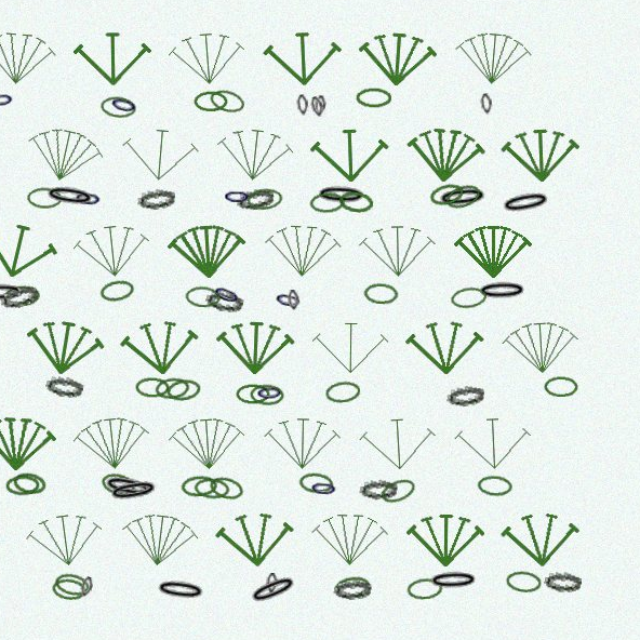chain: (255, 549, 305, 584), (489, 195, 538, 222), (121, 458, 170, 485), (126, 462, 175, 488), (67, 190, 116, 215), (170, 555, 218, 579), (25, 281, 64, 310), (377, 460, 414, 490), (431, 192, 479, 215), (437, 188, 474, 217), (244, 192, 282, 218), (319, 191, 366, 212), (219, 101, 255, 128), (219, 459, 254, 486), (4, 282, 51, 302), (468, 280, 515, 300), (423, 548, 470, 568), (423, 188, 458, 214), (119, 456, 154, 482), (153, 193, 190, 217), (439, 375, 476, 399), (76, 549, 111, 574), (216, 288, 253, 311), (68, 367, 105, 390), (118, 278, 153, 302), (335, 552, 370, 576), (221, 280, 252, 307), (443, 285, 478, 308), (38, 456, 71, 480), (335, 555, 371, 577), (339, 196, 373, 219), (180, 370, 214, 393), (327, 372, 361, 395), (119, 109, 154, 131), (494, 548, 529, 570), (359, 463, 395, 484), (255, 194, 289, 216), (206, 462, 240, 484), (74, 555, 108, 577), (170, 369, 203, 391), (303, 457, 336, 479), (30, 284, 64, 305), (194, 460, 228, 481), (403, 555, 437, 576), (530, 549, 565, 569), (127, 106, 156, 130), (313, 198, 346, 219), (198, 285, 231, 306), (363, 282, 396, 303), (468, 460, 501, 481), (279, 287, 308, 310), (52, 194, 84, 214), (258, 376, 290, 396), (32, 460, 64, 480), (356, 102, 389, 121), (206, 105, 238, 124), (152, 370, 184, 389), (245, 376, 277, 395), (530, 369, 562, 388), (95, 194, 122, 215), (313, 462, 340, 483), (14, 103, 41, 123), (263, 374, 290, 394), (233, 193, 259, 212), (313, 109, 328, 130), (100, 554, 114, 574), (301, 108, 313, 128), (317, 109, 329, 129), (471, 107, 483, 127), (293, 289, 304, 308), (273, 551, 284, 570)
fan: (2, 218, 84, 287), (46, 130, 127, 198), (47, 310, 126, 374), (48, 489, 126, 551), (136, 489, 213, 551), (224, 133, 301, 194), (92, 222, 169, 283), (92, 400, 169, 461), (401, 134, 477, 194), (137, 312, 213, 372), (5, 45, 81, 104), (445, 45, 521, 104), (137, 134, 213, 193), (225, 490, 301, 549), (181, 45, 256, 104), (357, 46, 432, 104), (181, 224, 256, 282), (5, 402, 80, 460), (181, 402, 256, 460), (490, 313, 564, 371), (358, 402, 432, 460), (270, 46, 344, 103), (270, 224, 344, 281), (446, 402, 520, 459), (490, 491, 564, 548), (490, 136, 564, 192), (226, 314, 300, 370), (314, 136, 387, 192), (402, 314, 475, 370), (358, 225, 431, 280), (270, 403, 343, 458), (314, 492, 387, 547), (95, 47, 167, 102), (447, 226, 519, 280), (315, 315, 387, 369), (403, 493, 475, 547)
